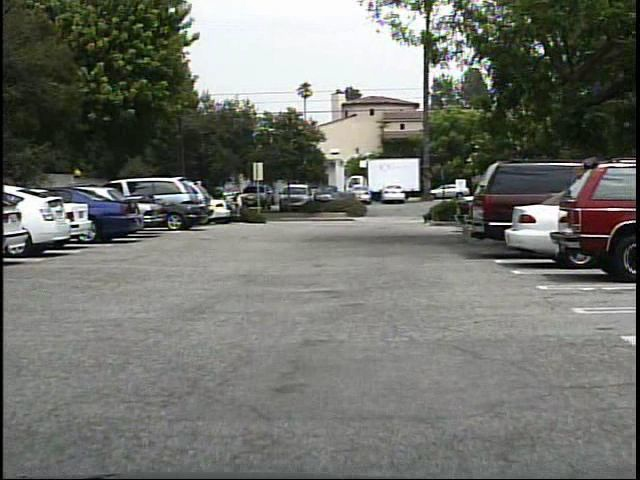person: (218, 188, 235, 219), (232, 193, 246, 221), (228, 190, 241, 220)
